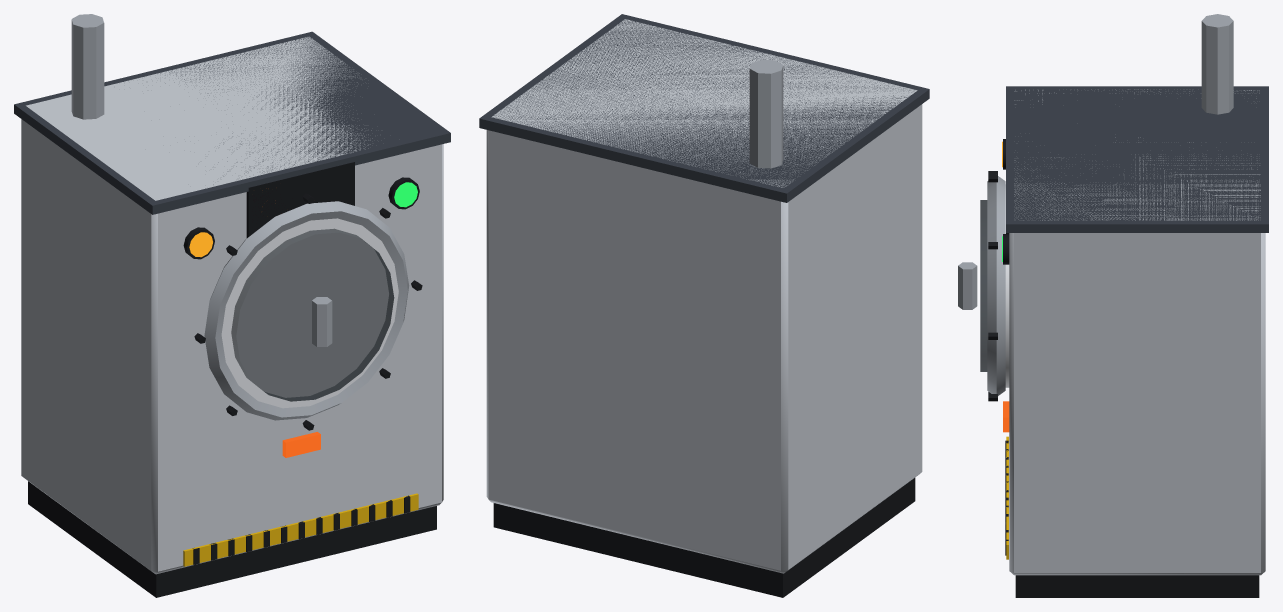
File: medcabinet_sterilizer_autoclave.glb
The picture shows the model from 3 angles, left to right: view 1: azimuth 30°, elevation 25°; view 2: azimuth 150°, elevation 25°; view 3: azimuth 270°, elevation 25°; orthographic projection. The views are drawn at different scales.
Visible parts, largest first — view 1: medcabinet_sterilizer_autoclave; view 2: medcabinet_sterilizer_autoclave; view 3: medcabinet_sterilizer_autoclave.
Boxes of the visible parts, <box> form: medcabinet_sterilizer_autoclave: <box>14,14,450,597</box>; medcabinet_sterilizer_autoclave: <box>479,14,929,597</box>; medcabinet_sterilizer_autoclave: <box>958,14,1268,597</box>.
Size of the model in its own units: 1.02 by 1.6 by 0.97.
